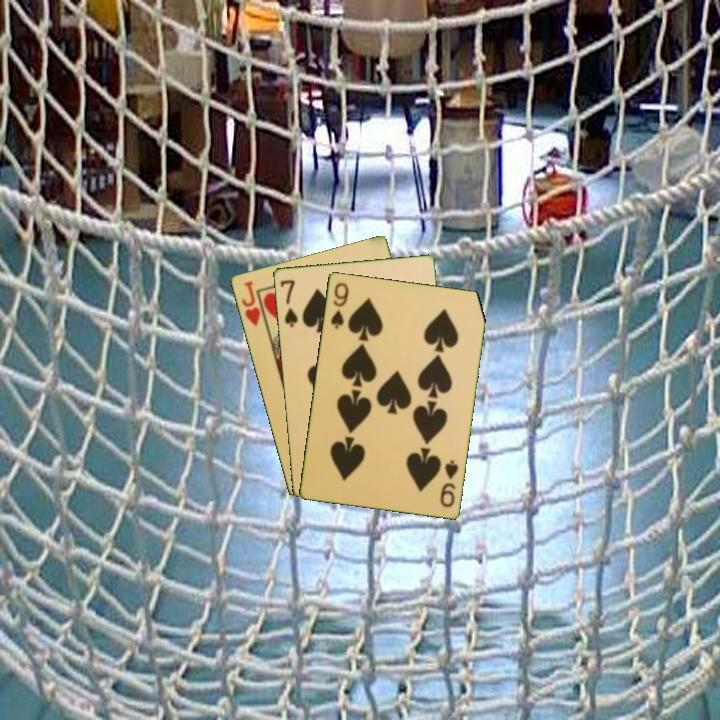7s: (276, 276, 301, 330)
9s: (436, 456, 461, 510), (327, 279, 351, 332)
Jh: (238, 277, 270, 331)
